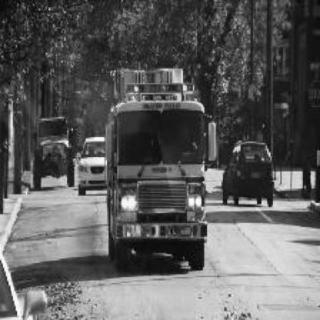other: (120, 77, 202, 95), (186, 180, 206, 212), (118, 184, 140, 212)
